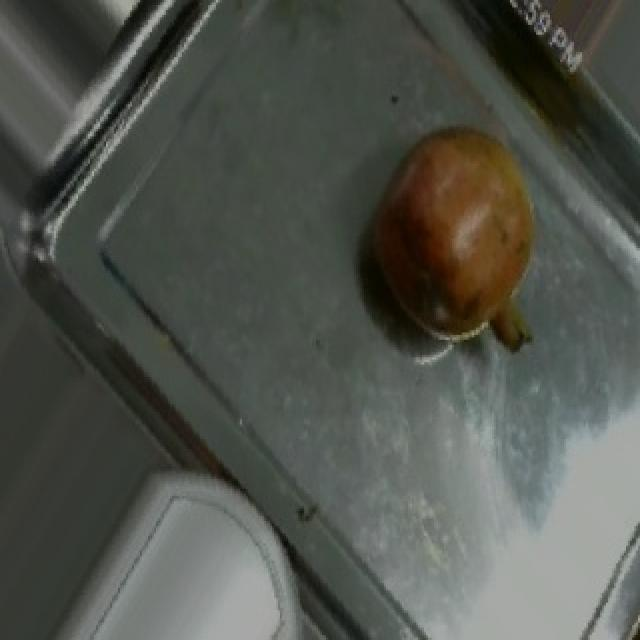fruit: (344, 96, 568, 370)
